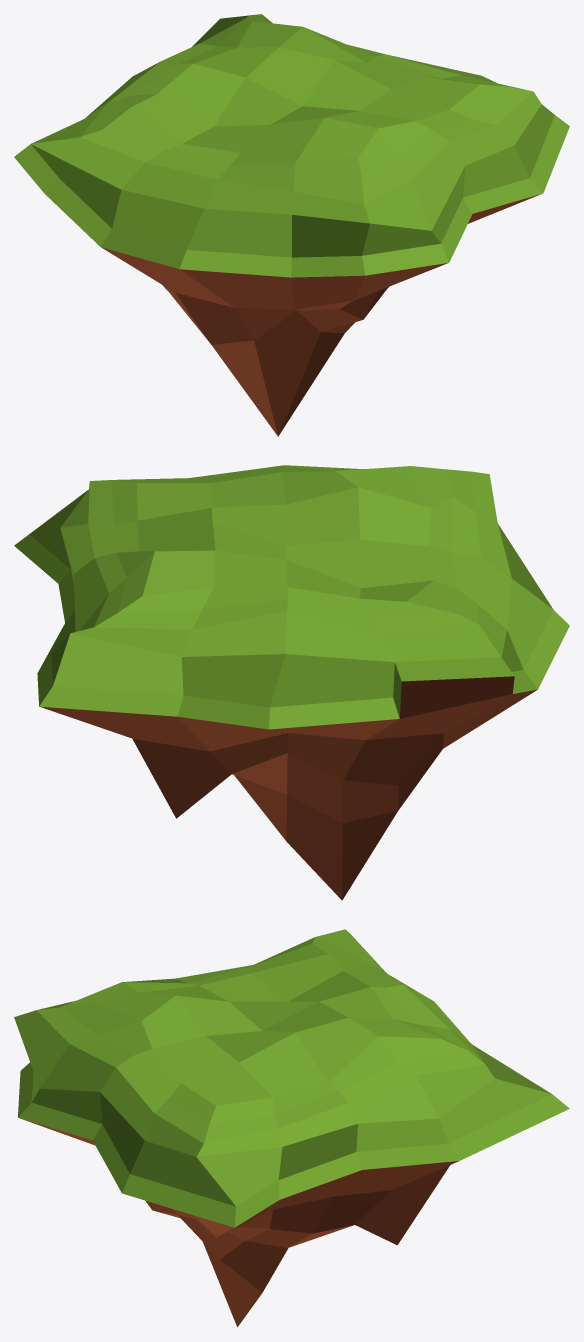
Rendered from Natures2L2.fbx.
3 renders of one model, top to bottom at view 1: azimuth 30°, elevation 25°; view 2: azimuth 150°, elevation 25°; view 3: azimuth 270°, elevation 25°, orthographic. The views are drawn at different scales.
Visible parts, largest first — view 1: L2; view 2: L2; view 3: L2.
Part boxes in pixels (bbox=[...]): L2: bbox=[14, 14, 569, 436]; L2: bbox=[14, 465, 569, 900]; L2: bbox=[14, 929, 569, 1327].
Bounding box in the file's own units: 1537 × 995 × 1474.
